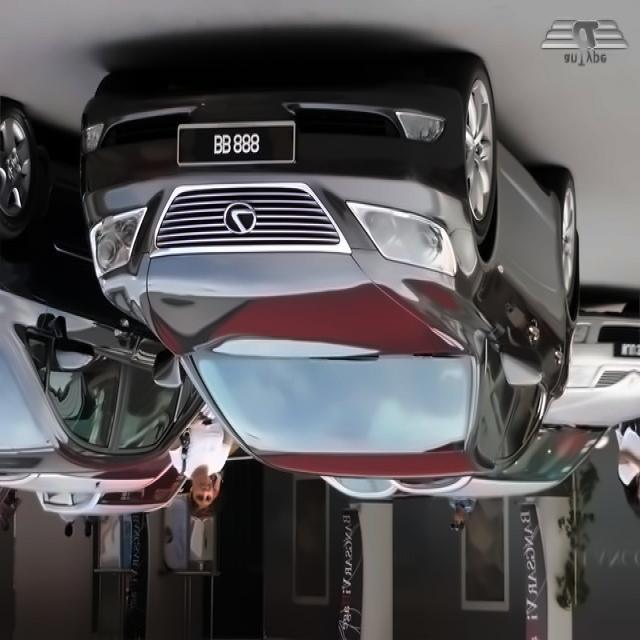car-plate: (176, 119, 296, 166), (613, 337, 640, 357)
